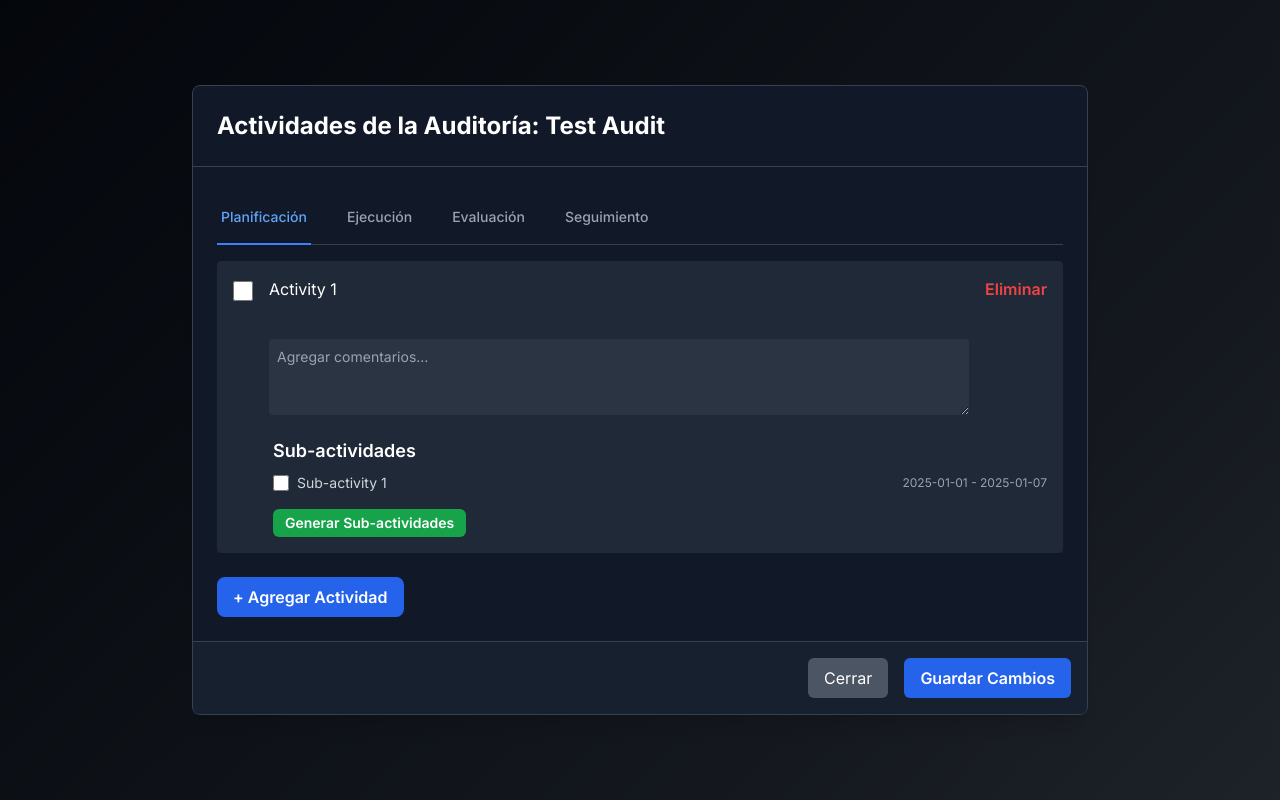
it: AuditActivitiesView › does not close modal after generating sub-activities
Expected: the text box "Activity 1" is shown, [269,277,969,325]
What coordinates should you click on to do the following:
click the button "Generar Sub-actividades"
I would click on:
 (370, 523)
Its box is [273,509,466,537].
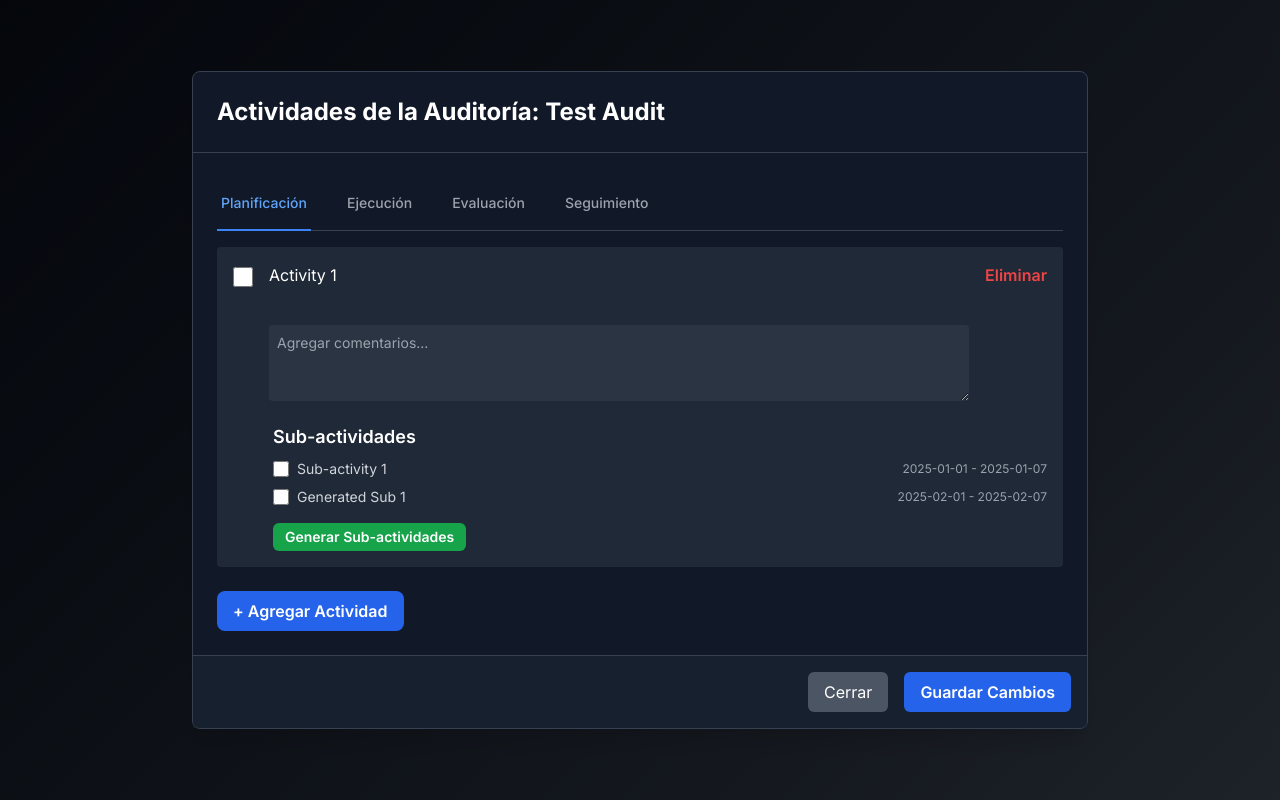
Expected: the heading "Actividades de la Auditoría: Test Audit" is shown, [217,97,665,126]
Expected: the text "Generated Sub 1" is shown, [297,488,406,505]
